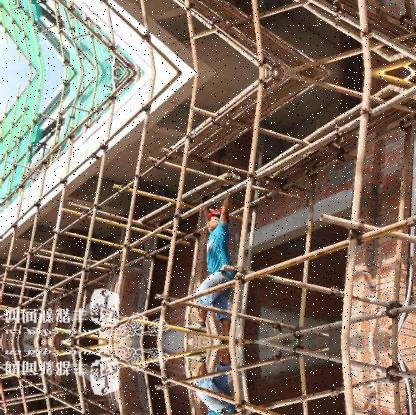helmet: (207, 205, 229, 231)
